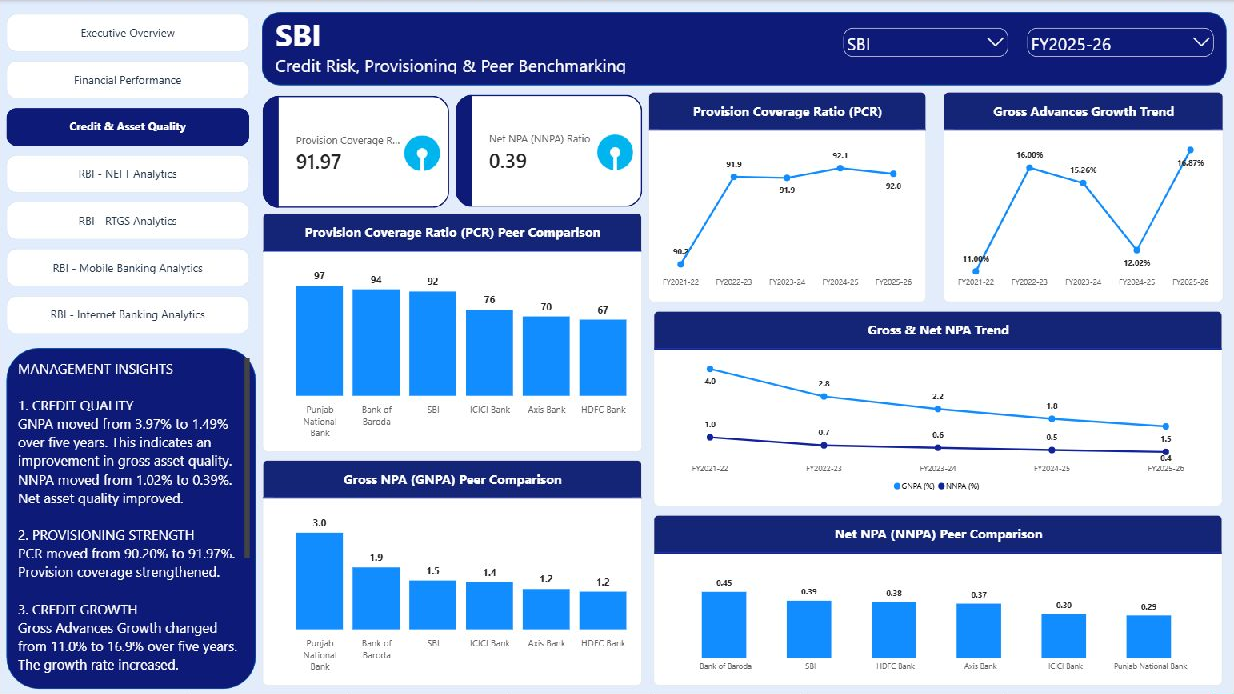

The page's visual inventory and layout, read from the dashboard file:
{"tool":"powerbi","page":{"name":"Credit & Asset Quality","canvas":[1920,1080],"ordinal":2},"visuals":[{"type":"clusteredColumnChart","title":"Gross NPA (GNPA) Peer Comparison","fields":{"Category":["Dim_Bank.Bank Name"],"Y":["Bank KPIs.Latest GNPA"]},"box":[408.1,715.1,589.5,350.6],"z":0},{"type":"lineChart","title":"Gross & Net NPA Trend","fields":{"Category":["Dim_Financial_Year.Financial Year"],"Y":["Bank KPIs.GNPA (%)","Bank KPIs.NNPA (%)"]},"box":[1016.9,483.1,884.3,303.5],"z":1000},{"type":"lineChart","title":"Provision Coverage Ratio (PCR)","fields":{"Category":["Dim_Financial_Year.Financial Year"],"Y":["Max(Bank KPIs.Provision Coverage Ratio (PCR) (%))"]},"box":[1008.1,143,430.8,326.2],"z":2000},{"type":"shape","box":[408,18,1510,114],"z":3000},{"type":"pageNavigator","box":[0,1.7,408.3,539.3],"z":4000},{"type":"textbox","box":[408.1,10.5,589.5,102.9],"z":7000},{"type":"slicer","fields":{"Values":["Dim_Bank.Bank Name"]},"box":[1296,18,286,112],"z":8000},{"type":"slicer","fields":{"Values":["Dim_Financial_Year.Financial Year"]},"box":[1582,18,320,112],"z":9000},{"type":"cardVisual","fields":{"Data":["Bank KPIs.Latest PCR"]},"box":[408.1,129.1,300,204],"z":10000},{"type":"cardVisual","fields":{"Data":["Bank KPIs.Latest NNPA"]},"box":[708.1,127.3,300,204],"z":11000},{"type":"clusteredColumnChart","title":"Net NPA (NNPA) Peer Comparison","fields":{"Category":["Dim_Bank.Bank Name"],"Y":["Bank KPIs.Latest NNPA"]},"box":[1016.9,800,884.3,265.1],"z":12000},{"type":"clusteredColumnChart","title":"Provision Coverage Ratio (PCR) Peer Comparison","fields":{"Category":["Dim_Bank.Bank Name"],"Y":["Bank KPIs.Latest PCR"]},"box":[408.1,331.4,589.5,371.5],"z":13000},{"type":"lineChart","title":"Gross Advances Growth Trend","fields":{"Category":["Dim_Financial_Year.Financial Year"],"Y":["Max(Bank KPIs.Gross Advances Growth (%))"]},"box":[1466.9,143,434.3,326.2],"z":14000},{"type":"shape","box":[0,540.7,408,530],"z":15000},{"type":"textbox","box":[27.9,556.4,361,491.9],"z":16000}]}

Visuals, with their boxes in screenshot pixels (x1, y1, x2, y2), scaled from the page's 1920x1080 canvas onto the 1234x694 screenshot:
"Gross NPA (GNPA) Peer Comparison" clusteredColumnChart: {"left": 262, "top": 460, "right": 641, "bottom": 685}
"Gross & Net NPA Trend" lineChart: {"left": 654, "top": 310, "right": 1222, "bottom": 505}
"Provision Coverage Ratio (PCR)" lineChart: {"left": 648, "top": 92, "right": 925, "bottom": 302}
shape: {"left": 262, "top": 12, "right": 1233, "bottom": 85}
pageNavigator: {"left": 0, "top": 1, "right": 262, "bottom": 348}
textbox: {"left": 262, "top": 7, "right": 641, "bottom": 73}
slicer - Dim_Bank.Bank Name: {"left": 833, "top": 12, "right": 1017, "bottom": 84}
slicer - Dim_Financial_Year.Financial Year: {"left": 1017, "top": 12, "right": 1222, "bottom": 84}
cardVisual - Bank KPIs.Latest PCR: {"left": 262, "top": 83, "right": 455, "bottom": 214}
cardVisual - Bank KPIs.Latest NNPA: {"left": 455, "top": 82, "right": 648, "bottom": 213}
"Net NPA (NNPA) Peer Comparison" clusteredColumnChart: {"left": 654, "top": 514, "right": 1222, "bottom": 684}
"Provision Coverage Ratio (PCR) Peer Comparison" clusteredColumnChart: {"left": 262, "top": 213, "right": 641, "bottom": 452}
"Gross Advances Growth Trend" lineChart: {"left": 943, "top": 92, "right": 1222, "bottom": 302}
shape: {"left": 0, "top": 347, "right": 262, "bottom": 688}
textbox: {"left": 18, "top": 358, "right": 250, "bottom": 674}
